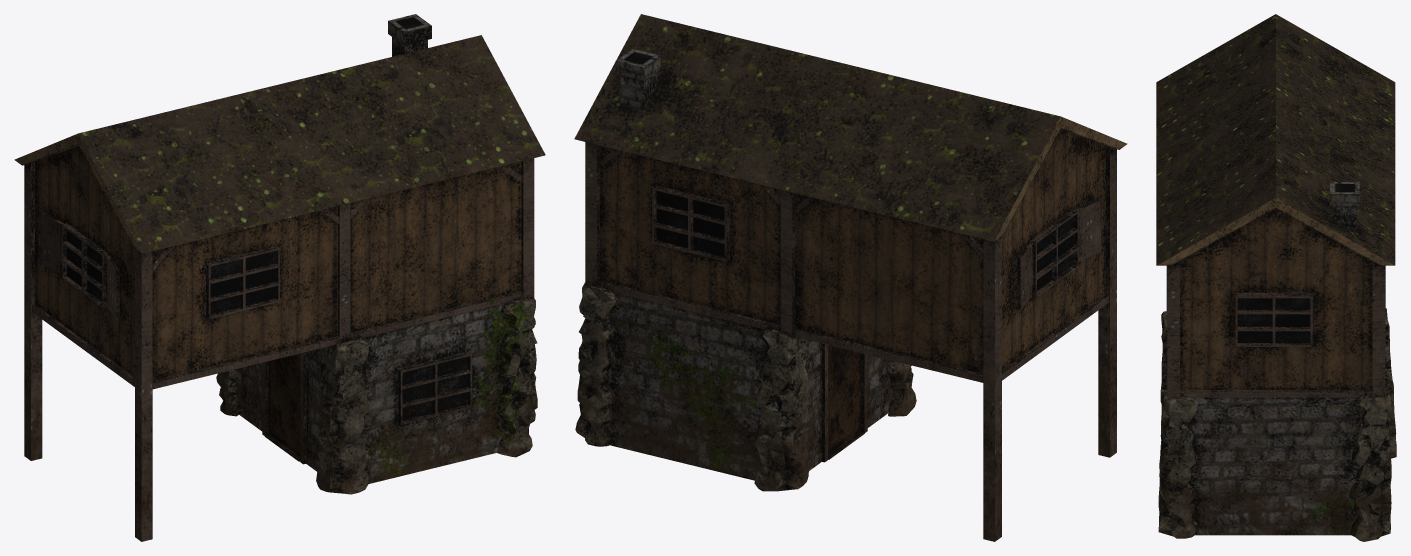
Rendered from small_house.glb.
3 views of the same model, side by side, from view 1: azimuth 30°, elevation 25°; view 2: azimuth 150°, elevation 25°; view 3: azimuth 270°, elevation 25° (orthographic). The views are drawn at different scales.
Parts seen in each view (by area): view 1: polySurface58; view 2: polySurface58; view 3: polySurface58.
Part boxes in pixels (x1,y1,x2,y2): polySurface58: [14, 14, 545, 541]; polySurface58: [574, 14, 1127, 541]; polySurface58: [1156, 14, 1396, 541].
Bounding box in the file's own units: 12.68 × 10.96 × 6.91.
Materials: 1 (1 with a texture image).
